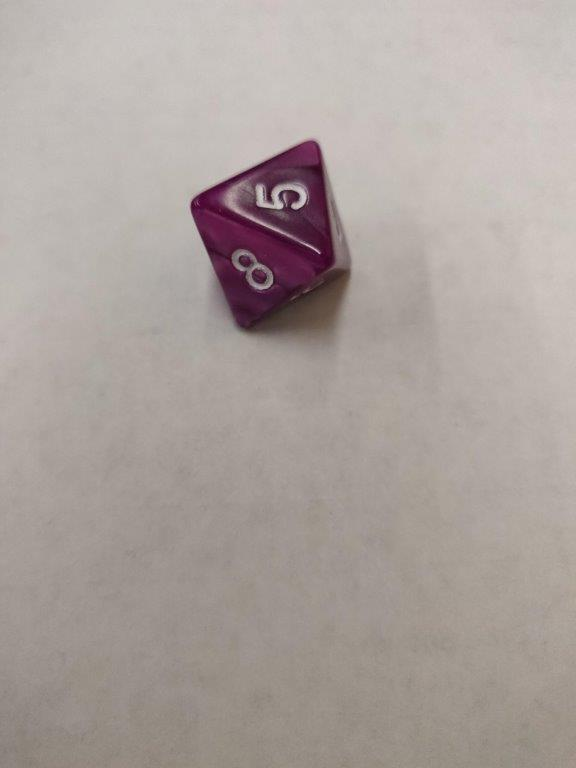d8-5: (188, 139, 352, 334)
